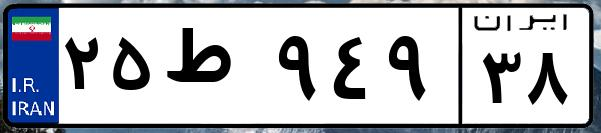2: (57, 26, 110, 100)
3: (475, 38, 525, 113)
4: (330, 28, 385, 110)
5: (110, 28, 158, 98)
8: (525, 38, 570, 115)
9: (270, 28, 330, 110), (385, 28, 445, 110)
ط: (158, 20, 270, 120)
